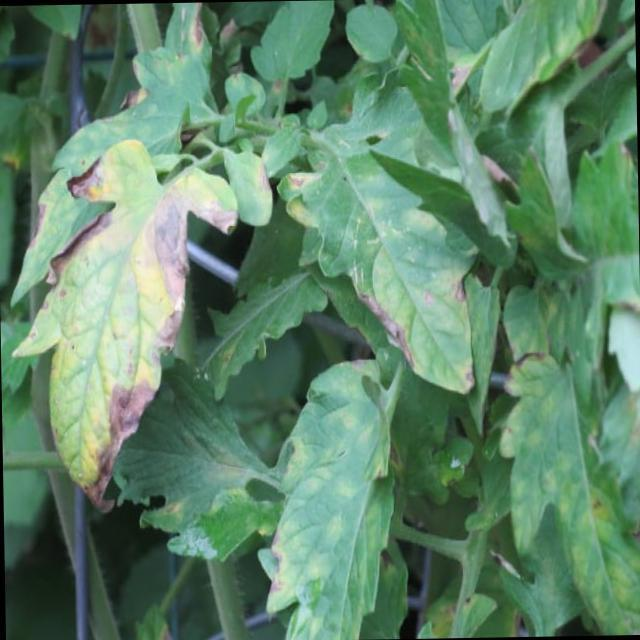Mosaic Virus: (515, 409, 640, 635), (288, 368, 390, 640)
